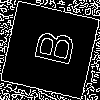B: (25, 25, 76, 68)
